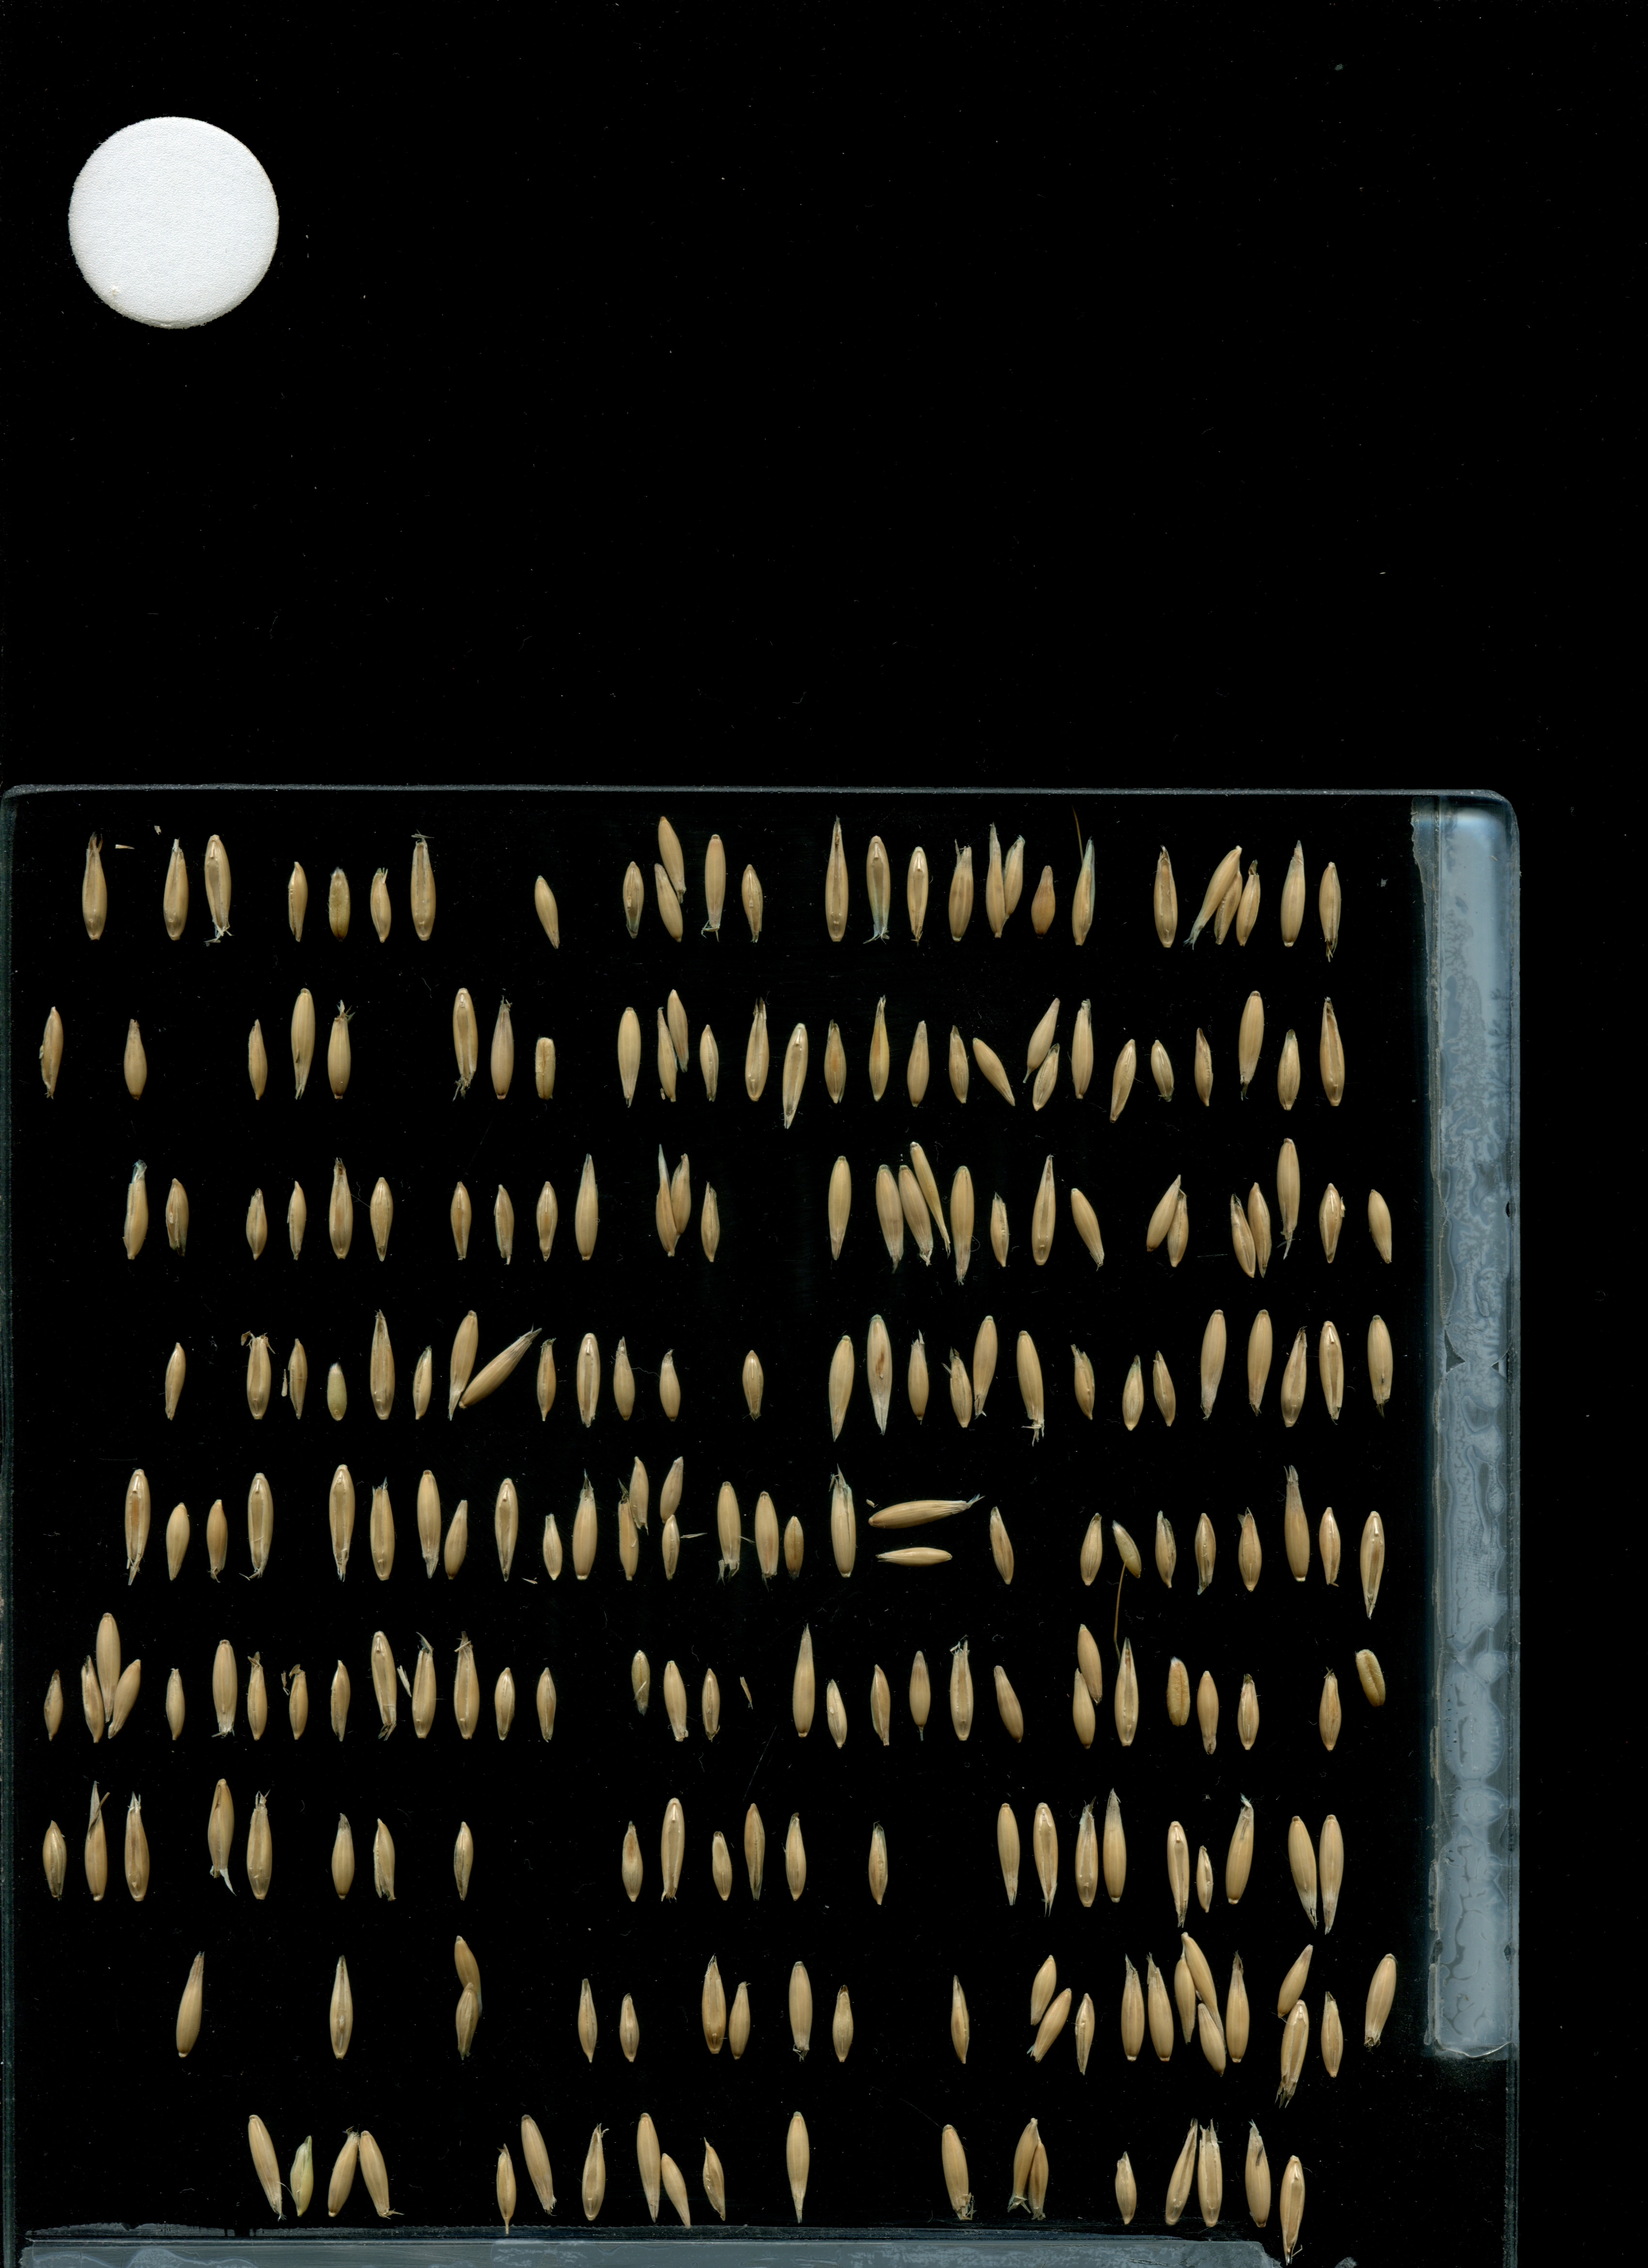NakedGrain: (322, 863, 356, 946), (1352, 1645, 1387, 1713), (784, 1498, 810, 1588), (1166, 1646, 1192, 1734), (530, 1034, 562, 1101), (629, 1641, 655, 1719), (324, 1358, 352, 1425)
WholeGrain: (456, 1322, 544, 1412), (1187, 845, 1243, 946), (910, 1138, 953, 1261), (1180, 1932, 1227, 2041), (243, 2111, 285, 2224), (984, 819, 1023, 940), (1273, 833, 1310, 953), (1315, 997, 1354, 1109), (518, 2110, 558, 2217), (868, 1490, 984, 1527), (447, 983, 484, 1097), (285, 983, 319, 1106), (780, 2106, 813, 2229), (607, 1000, 644, 1111), (116, 1153, 153, 1264), (648, 1139, 681, 1261), (120, 1463, 153, 1585), (243, 1465, 276, 1587), (412, 1462, 445, 1583), (489, 1465, 523, 1587), (569, 1467, 602, 1588), (828, 1463, 861, 1585), (1354, 1498, 1387, 1620), (1287, 1812, 1321, 1933), (1111, 1632, 1144, 1754), (447, 1627, 481, 1749), (787, 1622, 820, 1743), (405, 1624, 438, 1745), (208, 1625, 241, 1747), (1164, 2117, 1201, 2226), (1067, 833, 1102, 947), (447, 1308, 482, 1421), (174, 1948, 210, 2060), (1271, 1134, 1303, 1259), (1234, 983, 1268, 1101), (1028, 1150, 1062, 1268), (778, 1020, 813, 1130), (824, 1145, 857, 1261), (326, 1462, 357, 1583), (366, 1463, 398, 1585), (715, 1463, 747, 1585), (1280, 1462, 1312, 1583), (370, 1622, 401, 1743), (947, 1162, 977, 1291), (324, 1157, 361, 1261), (569, 1150, 602, 1264), (368, 1305, 400, 1425), (750, 1470, 782, 1590), (1315, 1814, 1347, 1933), (1021, 993, 1062, 1086), (1016, 1328, 1049, 1440), (864, 1307, 893, 1440), (900, 1160, 935, 1266), (1276, 1997, 1312, 2102), (1363, 1312, 1400, 1412), (1225, 1796, 1259, 1907), (206, 1775, 236, 1898), (356, 2127, 394, 2222), (822, 815, 850, 946), (822, 1331, 856, 1440), (1196, 1307, 1227, 1421), (1030, 1984, 1076, 2064), (938, 2124, 974, 2226), (488, 995, 521, 1102), (1222, 1949, 1252, 2069), (875, 1162, 907, 1273), (967, 1037, 1018, 1106), (1067, 1183, 1106, 1273), (900, 1016, 935, 1115), (121, 1789, 150, 1912), (245, 1786, 273, 1909), (658, 1786, 687, 1909), (782, 1786, 810, 1909), (995, 1787, 1023, 1911), (1030, 1791, 1058, 1914), (1072, 1794, 1100, 1918), (1100, 1787, 1129, 1911), (1150, 842, 1181, 951), (743, 995, 775, 1104), (79, 833, 109, 947), (160, 833, 190, 947), (201, 831, 231, 946), (408, 831, 438, 946), (701, 829, 731, 944), (991, 1657, 1028, 1749), (1118, 1949, 1148, 2062), (1144, 1173, 1185, 1255), (1276, 1942, 1317, 2025), (1363, 1953, 1398, 2048), (1148, 1951, 1176, 2069), (945, 836, 975, 947), (1245, 1307, 1275, 1417), (1245, 2120, 1275, 2231), (326, 1002, 357, 1106), (1317, 1317, 1347, 1426), (83, 1782, 109, 1905), (741, 1786, 768, 1909), (1009, 2115, 1042, 2212), (35, 1000, 67, 1102), (787, 1949, 815, 2062), (699, 1951, 727, 2064), (970, 1314, 1000, 1419), (864, 833, 893, 944), (903, 835, 931, 946), (327, 1953, 356, 2064), (1278, 2155, 1306, 2266), (118, 1011, 151, 1104), (864, 993, 893, 1102), (1070, 995, 1099, 1104), (243, 1328, 275, 1425), (95, 1608, 121, 1724), (820, 1018, 854, 1109), (1245, 1180, 1275, 1282), (574, 1328, 604, 1430), (326, 2131, 361, 2217), (1317, 854, 1345, 961), (653, 1004, 681, 1111), (1164, 1815, 1190, 1930), (578, 2125, 607, 2226), (1363, 1183, 1398, 1268), (634, 2113, 660, 2226), (530, 1173, 562, 1266), (1171, 1951, 1201, 2050), (452, 1932, 486, 2020), (1282, 1324, 1310, 1428), (1107, 1032, 1139, 1123), (366, 1173, 398, 1264), (444, 1173, 475, 1264), (489, 1176, 521, 1268), (695, 1171, 727, 1263), (905, 1326, 933, 1428), (1234, 863, 1266, 953), (160, 1173, 194, 1257), (662, 1653, 692, 1747), (326, 1652, 356, 1745), (243, 1650, 273, 1743), (40, 1808, 70, 1902), (618, 1814, 648, 1907), (706, 1817, 736, 1911), (1194, 1830, 1224, 1923), (1074, 1620, 1106, 1708), (282, 859, 315, 942), (1164, 1189, 1197, 1271), (1225, 1192, 1255, 1284), (532, 1655, 562, 1747), (489, 1655, 519, 1747), (283, 1653, 313, 1745), (329, 1812, 359, 1903), (370, 1810, 400, 1902), (449, 1814, 479, 1905), (616, 1814, 646, 1905), (657, 815, 688, 902), (945, 1345, 977, 1432), (364, 865, 398, 946), (1317, 1176, 1347, 1266), (984, 1187, 1016, 1271), (1196, 1999, 1229, 2078), (1215, 861, 1245, 949), (491, 2143, 521, 2231), (864, 1815, 893, 1909), (532, 870, 563, 953), (618, 859, 650, 942), (736, 861, 768, 944), (158, 1664, 190, 1747), (660, 2150, 692, 2233), (655, 861, 685, 946), (79, 1657, 107, 1747), (701, 2134, 729, 2224), (111, 1655, 143, 1734), (243, 1014, 271, 1102), (697, 1018, 725, 1106), (241, 1182, 271, 1264), (1151, 1347, 1181, 1430), (655, 1345, 685, 1428), (1146, 1032, 1180, 1106), (160, 1336, 188, 1423), (289, 2134, 317, 2220), (1028, 858, 1058, 939), (944, 1025, 974, 1106), (1276, 1023, 1303, 1115), (164, 1495, 190, 1585), (204, 1493, 231, 1583), (442, 1495, 468, 1585), (539, 1500, 565, 1590), (988, 1504, 1014, 1594), (1078, 1504, 1104, 1594), (1153, 1504, 1180, 1594), (1194, 1506, 1220, 1595), (1236, 1507, 1262, 1597), (1317, 1498, 1343, 1588), (1317, 1664, 1343, 1754), (1236, 1668, 1262, 1757), (1196, 1668, 1222, 1757), (907, 1648, 933, 1738), (697, 1660, 724, 1750), (947, 1974, 974, 2064), (725, 1976, 752, 2065), (616, 1981, 643, 2071), (574, 1974, 600, 2064), (1028, 1041, 1062, 1111), (1028, 1953, 1060, 2027), (1199, 2120, 1220, 2231), (1070, 1342, 1099, 1425), (739, 1342, 768, 1425), (611, 1335, 639, 1417), (535, 1338, 563, 1421), (627, 1451, 655, 1534), (1192, 1021, 1218, 1109), (285, 1176, 312, 1264), (824, 1666, 850, 1754), (1072, 1990, 1099, 2078), (828, 1977, 854, 2065), (1109, 1516, 1143, 1585), (1113, 2146, 1141, 2227), (1321, 1988, 1345, 2080), (616, 1495, 641, 1585), (868, 1659, 893, 1749), (285, 1338, 312, 1421), (667, 983, 690, 1078), (1074, 1668, 1099, 1756), (408, 1342, 435, 1423), (39, 1666, 65, 1743), (1120, 1352, 1144, 1435), (873, 1544, 956, 1569), (456, 1981, 481, 2064), (1026, 2138, 1051, 2220), (658, 1454, 687, 1525), (671, 1148, 694, 1233), (660, 1513, 681, 1585)
